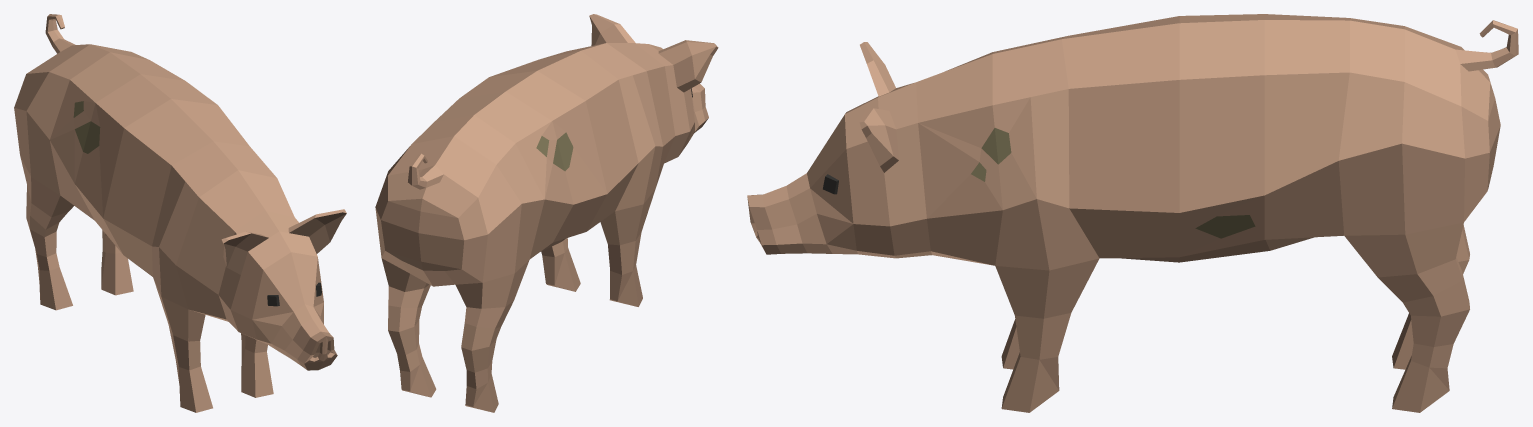
File: Pig.fbx
3 views of the same model, side by side, from view 1: azimuth 30°, elevation 25°; view 2: azimuth 150°, elevation 25°; view 3: azimuth 270°, elevation 25° (orthographic). The views are drawn at different scales.
Visible parts, largest first — view 1: Pig; view 2: Pig; view 3: Pig.
Part boxes in pixels (x1,y1,x2,y2): Pig: (14, 14, 346, 412); Pig: (375, 14, 718, 412); Pig: (747, 14, 1518, 412).
Size of the model in its own units: 48.67 by 89.02 by 172.
